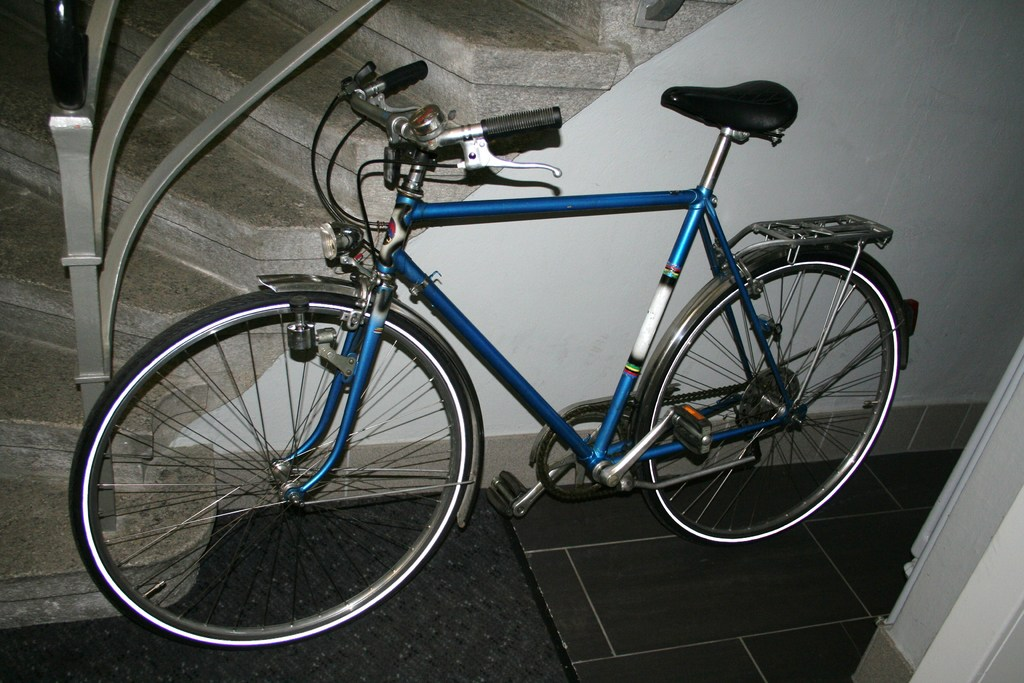Bike: (168, 113, 738, 513)
